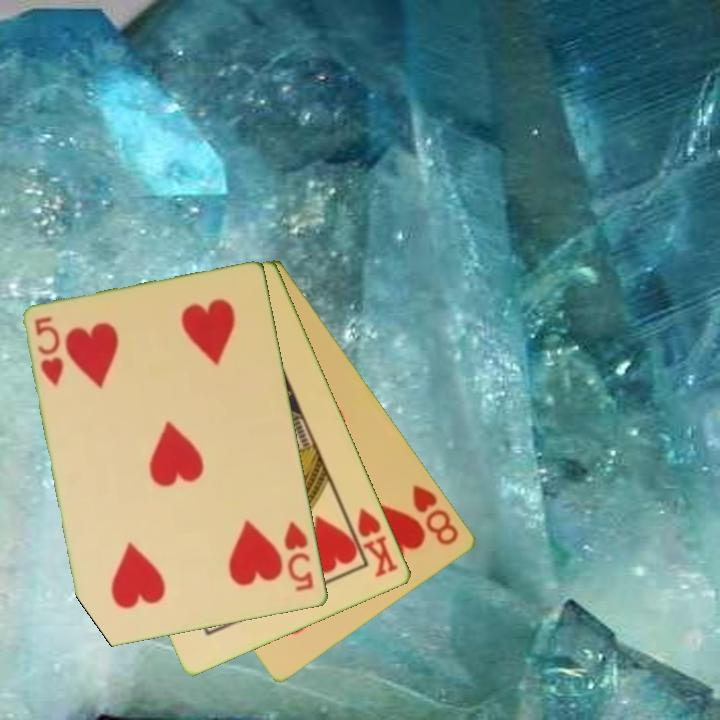5h: (281, 518, 317, 595), (31, 313, 67, 389)
8h: (409, 481, 463, 549)
Kh: (342, 504, 402, 581)
